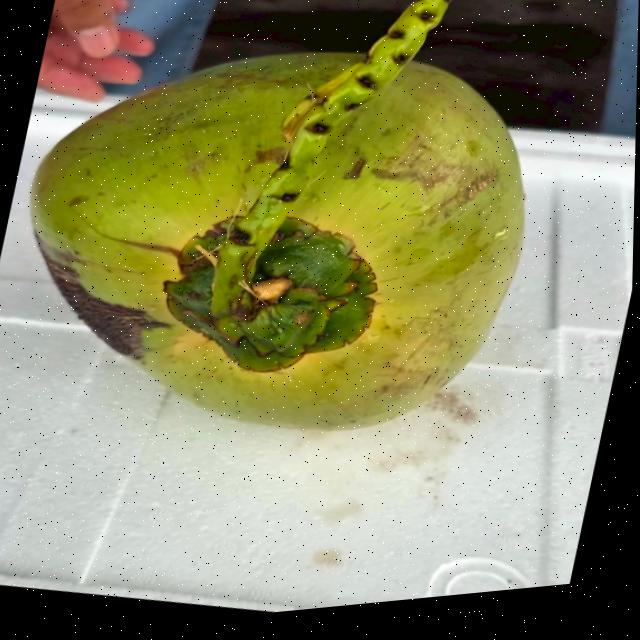coco_1.5: (103, 145, 438, 434)
